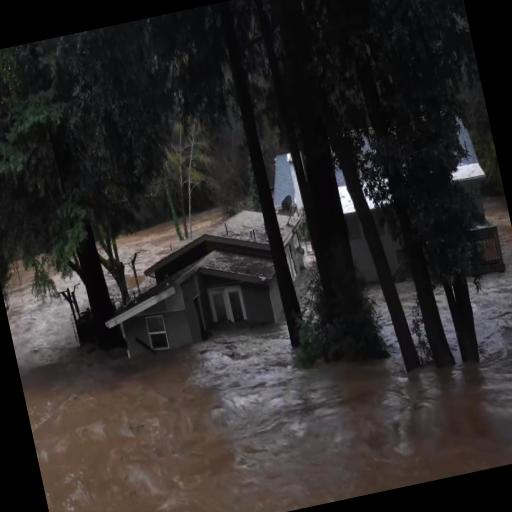flood: (6, 197, 512, 512), (118, 223, 179, 285), (193, 207, 220, 232)
house: (104, 206, 288, 365)
